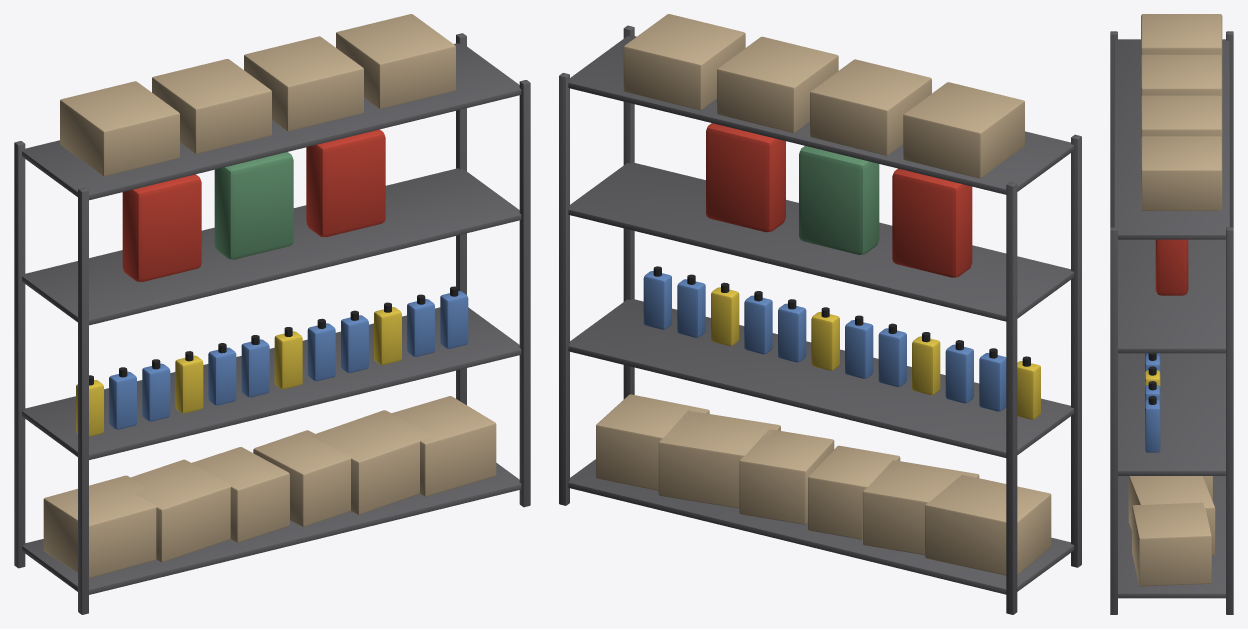
Rendered from g_shelf.fbx.
3 views of the same model, side by side, from view 1: azimuth 30°, elevation 25°; view 2: azimuth 150°, elevation 25°; view 3: azimuth 270°, elevation 25° (orthographic). The views are drawn at different scales.
Visible parts, largest first — view 1: g_shelf_darksteel, g_shelf_cardboard, g_shelf_red, g_shelf_oilcan, g_shelf_green, g_shelf_yellow, g_shelf_black; view 2: g_shelf_darksteel, g_shelf_cardboard, g_shelf_red, g_shelf_oilcan, g_shelf_green, g_shelf_yellow, g_shelf_black; view 3: g_shelf_darksteel, g_shelf_cardboard, g_shelf_red, g_shelf_oilcan, g_shelf_black.
Boxes of the visible parts, bbox=[...] form: g_shelf_darksteel: bbox=[14, 33, 530, 614]; g_shelf_cardboard: bbox=[43, 14, 496, 578]; g_shelf_red: bbox=[122, 129, 385, 281]; g_shelf_oilcan: bbox=[109, 291, 468, 429]; g_shelf_green: bbox=[214, 152, 293, 259]; g_shelf_yellow: bbox=[76, 307, 401, 436]; g_shelf_black: bbox=[89, 286, 458, 385]; g_shelf_darksteel: bbox=[559, 25, 1081, 614]; g_shelf_cardboard: bbox=[596, 14, 1051, 575]; g_shelf_red: bbox=[706, 123, 972, 277]; g_shelf_oilcan: bbox=[643, 271, 1006, 411]; g_shelf_green: bbox=[799, 146, 879, 254]; g_shelf_yellow: bbox=[711, 287, 1040, 419]; g_shelf_black: bbox=[653, 266, 1030, 366]; g_shelf_darksteel: bbox=[1110, 31, 1233, 614]; g_shelf_cardboard: bbox=[1128, 14, 1222, 586]; g_shelf_red: bbox=[1155, 239, 1188, 295]; g_shelf_oilcan: bbox=[1145, 353, 1160, 452]; g_shelf_black: bbox=[1148, 353, 1156, 404].
Bounding box in the file's own units: 2.44 × 2.4 × 0.64.
